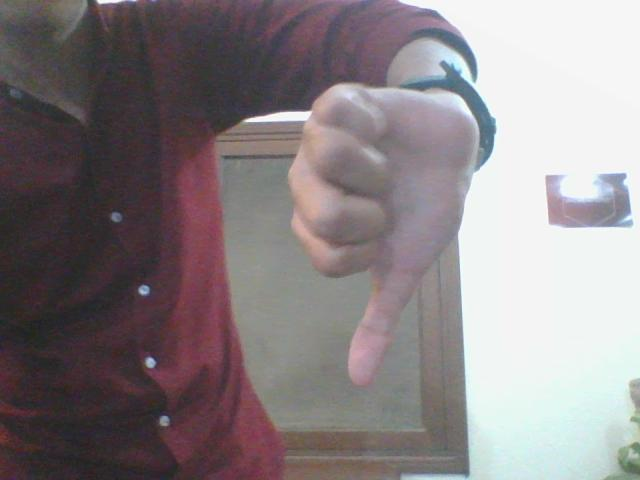thumbs-down: (272, 81, 472, 401)
